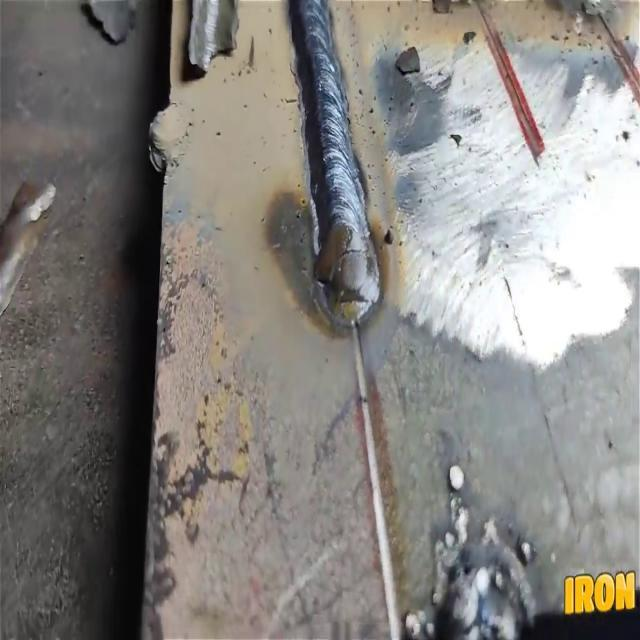Good Weld: (290, 5, 372, 216)
